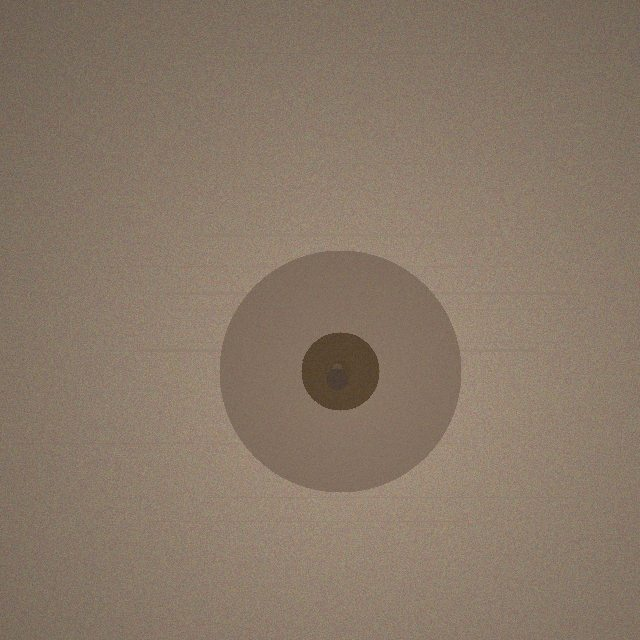cold_weld: (219, 250, 461, 492)
